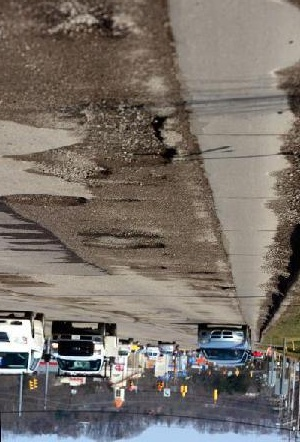pothole: (80, 94, 179, 169), (39, 7, 122, 43), (38, 146, 112, 181), (75, 221, 164, 240), (0, 192, 92, 210), (83, 244, 166, 252), (128, 262, 170, 272)
